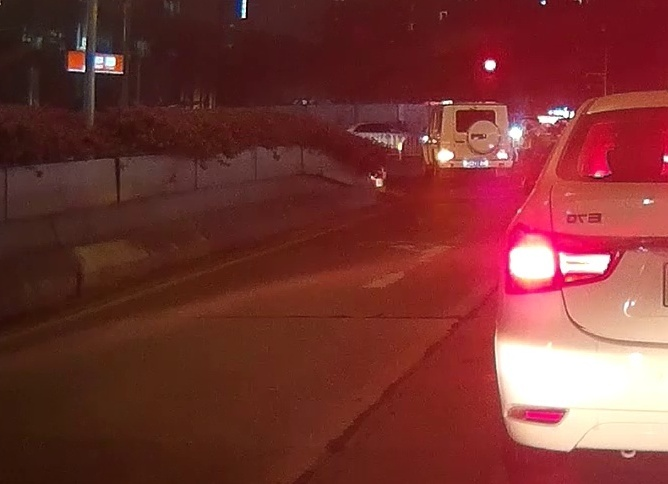L_light: (439, 151, 454, 158)
R_light: (496, 153, 509, 159)
T_light: (469, 109, 481, 112)
night-left: (438, 105, 513, 183)
